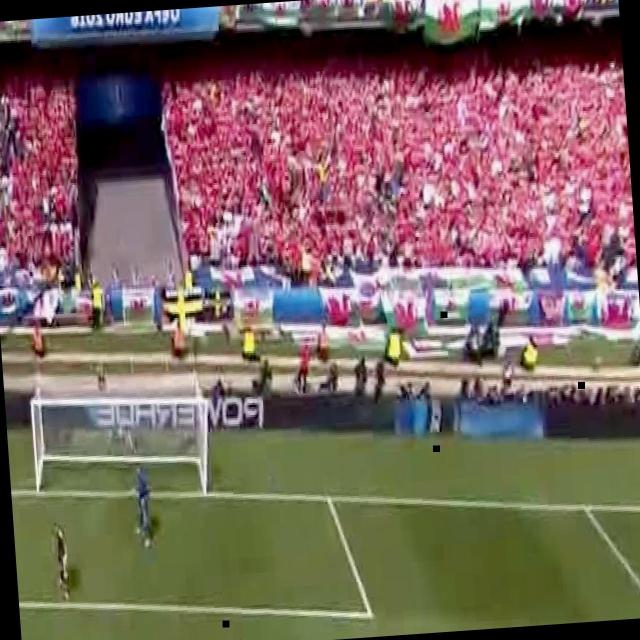player-white: (130, 466, 156, 550), (54, 521, 72, 603), (220, 637, 246, 640)
